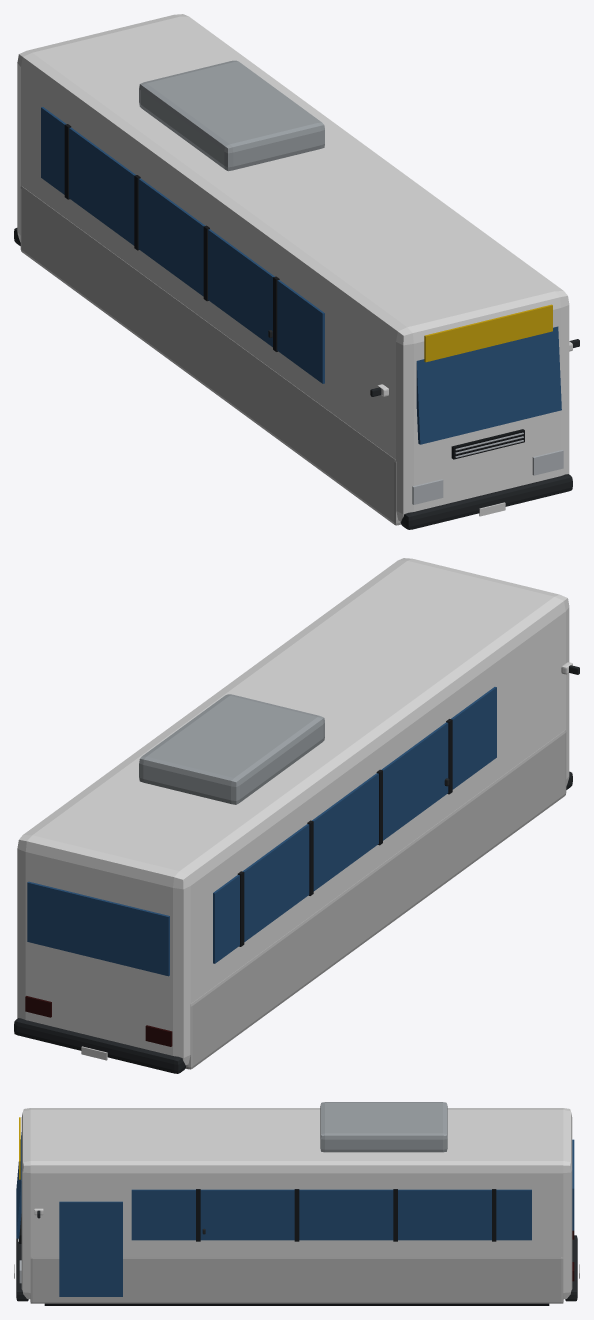
File: vehicles.glb
3 views of the same model, one above another, from view 1: azimuth 30°, elevation 25°; view 2: azimuth 150°, elevation 25°; view 3: azimuth 270°, elevation 25° (orthographic). The views are drawn at different scales.
Parts seen in each view (by area): view 1: car_bus; view 2: car_bus; view 3: car_bus.
Boxes of the visible parts, x1=… form: car_bus: x1=14, y1=14, x2=579, y2=529; car_bus: x1=14, y1=558, x2=579, y2=1073; car_bus: x1=14, y1=1102, x2=579, y2=1305.
Size of the model in its own units: 2.94 by 3.08 by 9.76.
